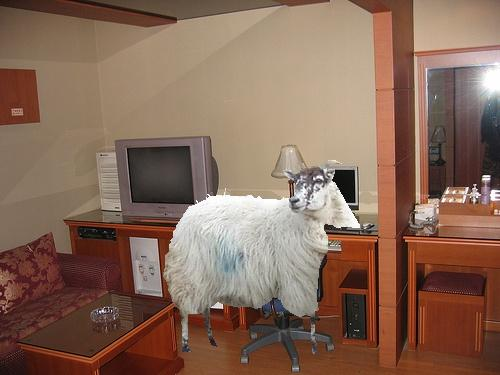tampered: (164, 161, 360, 354)
